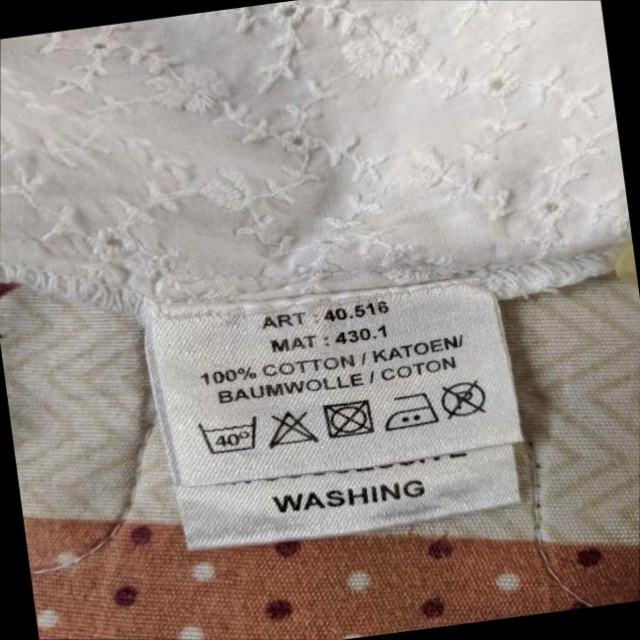40C: (198, 411, 263, 459)
DN_bleach: (261, 404, 318, 452)
DN_dry_clean: (438, 377, 491, 422)
DN_tumble_dry: (320, 397, 376, 444)
iron_medium: (380, 390, 440, 434)
